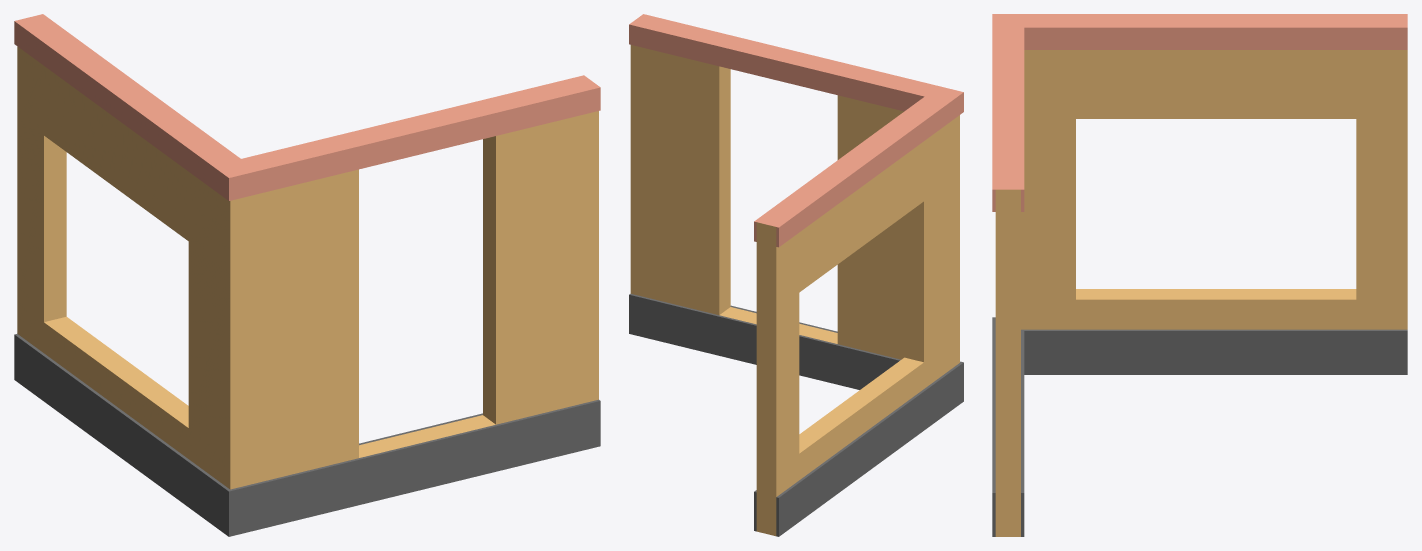
Rendered from Wall06-05.fbx.
3 renders of one model, left to right at view 1: azimuth 30°, elevation 25°; view 2: azimuth 150°, elevation 25°; view 3: azimuth 270°, elevation 25°, orthographic. The views are drawn at different scales.
Visible parts, largest first — view 1: Wall06-05; view 2: Wall06-05; view 3: Wall06-05.
Boxes of the visible parts, x1,y1,x2,y2 form: Wall06-05: [14, 14, 600, 536]; Wall06-05: [629, 14, 963, 536]; Wall06-05: [992, 14, 1407, 536].
Size of the model in its own units: 3.25 by 3.25 by 3.
